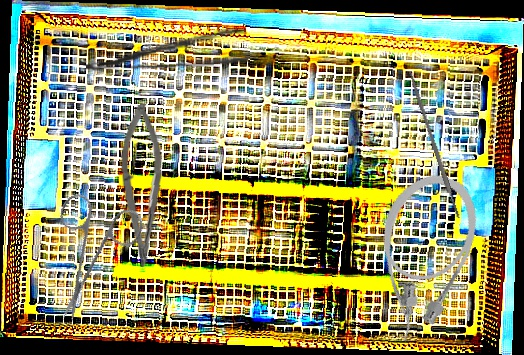Cannula: (348, 163, 492, 352)
Dressing Forceps: (84, 27, 248, 74)
Iris Scissors: (16, 173, 169, 323)
Micro Scissor: (116, 103, 170, 268)
Scalpel Handle: (407, 70, 461, 220)
